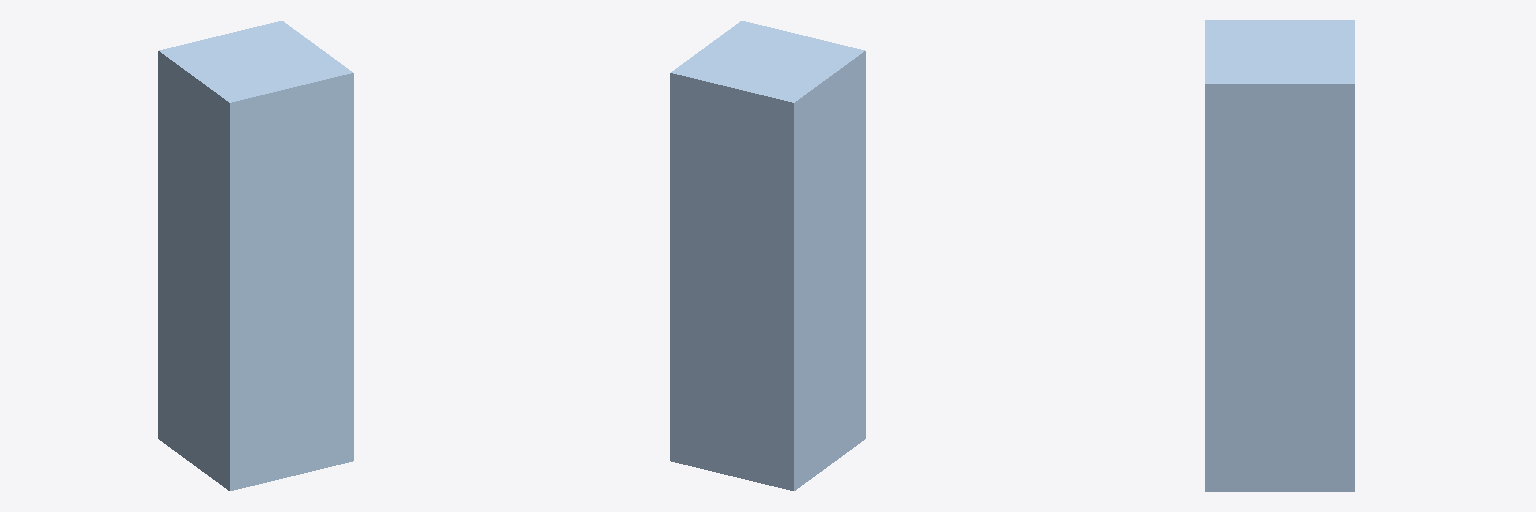
The robot description file, URDF, robot "cube":
<?xml version="1.0" ?>
<robot name="cube">
  <link name="baseLink">
    <contact>
      <lateral_friction value="1.0"/>
      <rolling_friction value="0.0"/>
      <contact_cfm value="0.0"/>
      <contact_erp value="1.0"/>
    </contact>
    <inertial>
      <origin rpy="0 0 0" xyz="0 0 0"/>
       <mass value="1.0"/>
       <inertia ixx="1" ixy="0" ixz="0" iyy="1" iyz="0" izz="1"/>
    </inertial>
    <visual>
      <origin rpy="0 0 0" xyz="0 0 0"/>
      <geometry>
				<mesh filename="cube.obj" scale="1 1 3"/>
      </geometry>
       <material name="white">
        <color rgba="0.8 0.9 1 1"/>
      </material>
    </visual>
    <collision>
      <origin rpy="0 0 0" xyz="0 0 0"/>
      <geometry>
	 	<box size="1 1 3"/>
      </geometry>
    </collision>
  </link>
</robot>

--- Render facts (derived) ---
Views: 3 orthographic renders of the robot side by side, from view 1: azimuth 30°, elevation 25°; view 2: azimuth 150°, elevation 25°; view 3: azimuth 270°, elevation 25°.
Model cube with 1 links and 0 joints (none), rooted at baseLink, posed all joints at 0.
Links seen in each view (by area): view 1: baseLink; view 2: baseLink; view 3: baseLink.
Boxes of the visible links, box(x1,y1,x2,y2) form: baseLink: box(158, 21, 353, 490); baseLink: box(670, 21, 865, 490); baseLink: box(1205, 20, 1354, 491).
Bounding box of the posed robot: 1 × 1 × 3 m (x, y, z).
1 mesh visuals loaded from 1 distinct referenced files (1 OBJ).